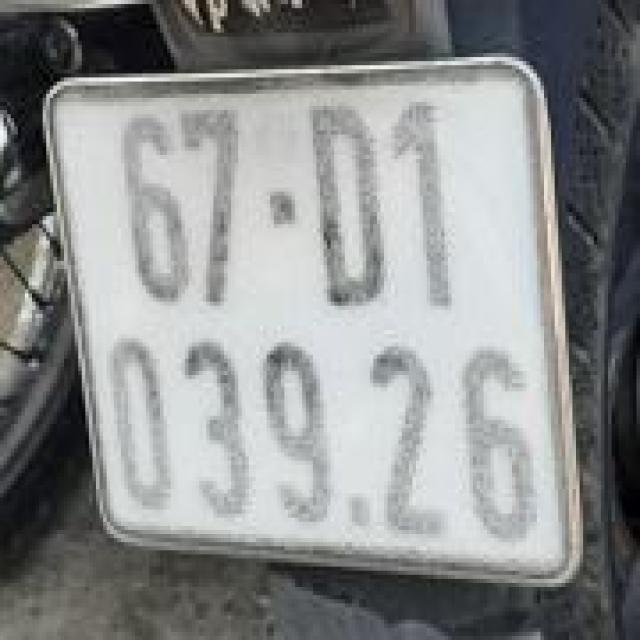0: (102, 332, 180, 512)
1: (391, 96, 466, 320)
2: (361, 340, 453, 536)
3: (176, 334, 258, 518)
6: (446, 347, 546, 546), (114, 108, 195, 304)
7: (180, 98, 243, 310)
9: (260, 336, 342, 528)
D: (306, 96, 391, 312)
